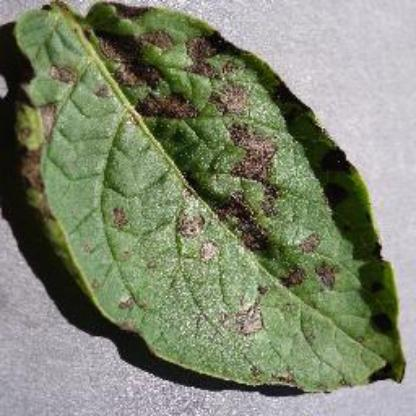Early-Blight: (6, 0, 408, 388)
